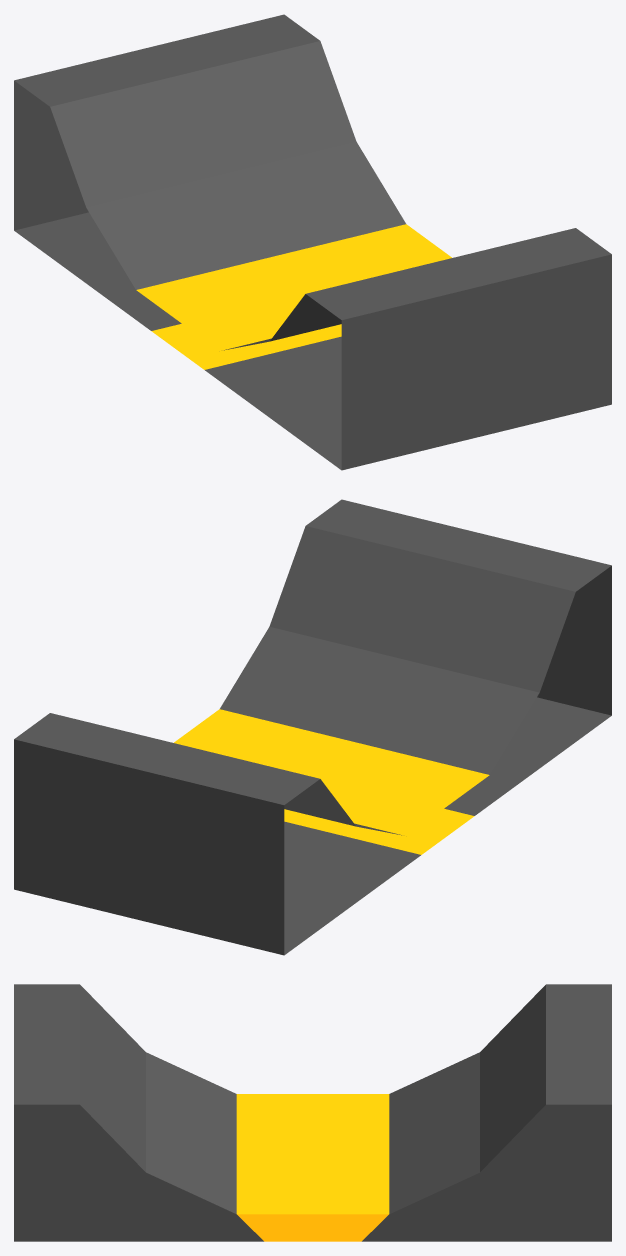
Rendered from Spline_Slip_Halfpipe_1.fbx.
The picture shows the model from 3 angles, top to bottom: view 1: azimuth 30°, elevation 25°; view 2: azimuth 150°, elevation 25°; view 3: azimuth 270°, elevation 25°; orthographic projection. The views are drawn at different scales.
Parts seen in each view (by area): view 1: Spline_Slip_Halfpipe 1; view 2: Spline_Slip_Halfpipe 1; view 3: Spline_Slip_Halfpipe 1.
Part boxes in pixels (left/top/right/bottom): Spline_Slip_Halfpipe 1: left=14, top=14, right=611, bottom=470; Spline_Slip_Halfpipe 1: left=14, top=499, right=611, bottom=955; Spline_Slip_Halfpipe 1: left=14, top=984, right=611, bottom=1241.
Bounding box in the file's own units: 1000 × 531 × 2100.
